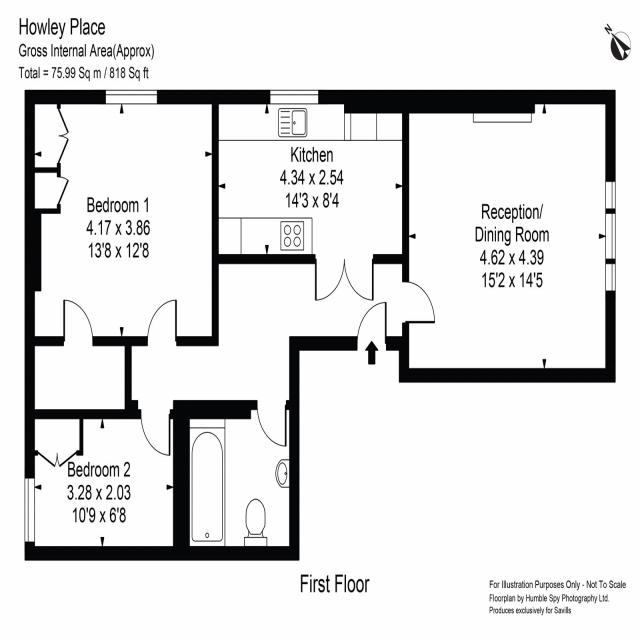DOOR: (255, 398, 288, 451), (139, 407, 172, 459), (356, 299, 388, 352), (401, 279, 437, 326), (62, 298, 95, 347), (146, 297, 178, 347)
DOUBLE DOOR: (311, 250, 374, 303)
ROOM: (398, 89, 617, 384), (24, 89, 219, 347), (211, 89, 410, 303), (24, 399, 191, 561)
WINDOW: (104, 89, 158, 106), (269, 88, 320, 106), (24, 477, 36, 545), (605, 213, 616, 260), (605, 180, 616, 210), (605, 263, 616, 292)
